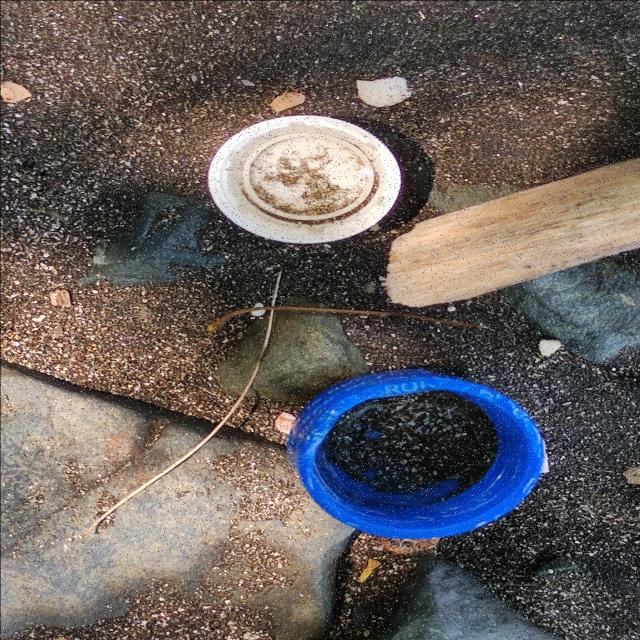plastic_waste: (290, 369, 552, 542), (201, 119, 400, 250)
